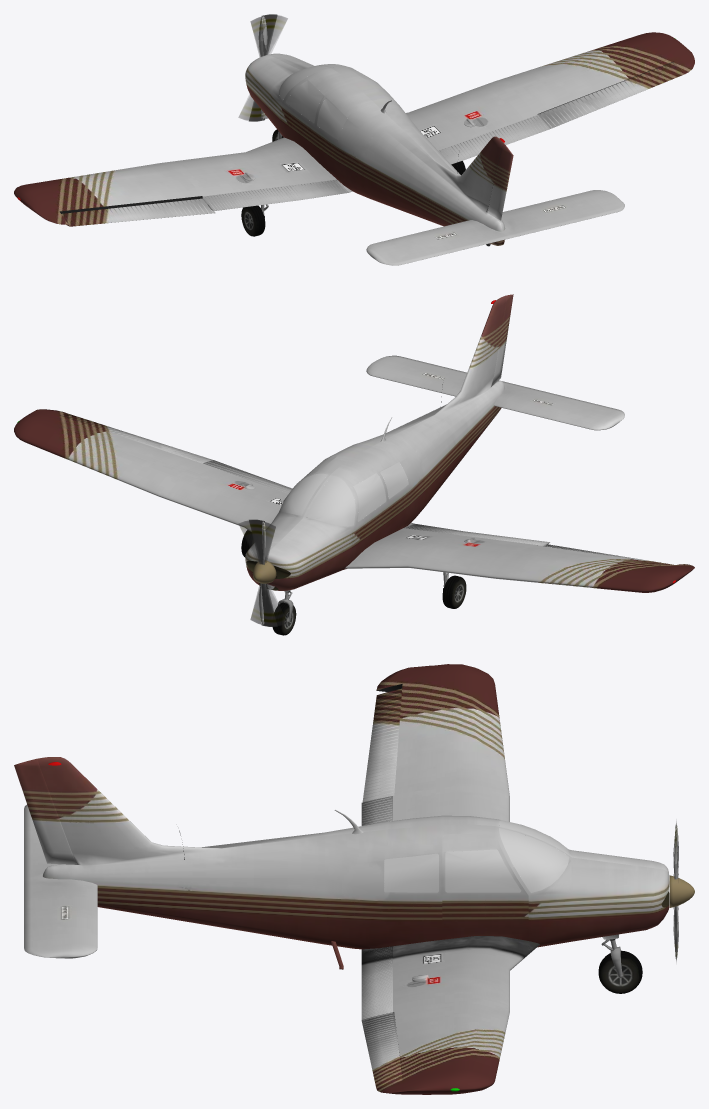
3 views of the same model, one above another, from view 1: azimuth 30°, elevation 25°; view 2: azimuth 150°, elevation 25°; view 3: azimuth 270°, elevation 25° (orthographic). The views are drawn at different scales.
Parts seen in each view (by area): view 1: aileronD, vitreporteG, propblur; view 2: aileronD, vitreporteG, propblur; view 3: aileronD, vitreporteG.
Boxes of the visible parts, x1,y1,x2,y2 form: aileronD: (14,16,694,265); vitreporteG: (279,64,347,139); propblur: (238,14,287,121); aileronD: (14,294,694,635); vitreporteG: (279,462,408,526); propblur: (238,519,287,626); aileronD: (14,664,694,1094); vitreporteG: (384,820,569,892).
Bounding box in the file's own units: 10.55 × 2.73 × 7.15.
5 materials, 2 textured.
